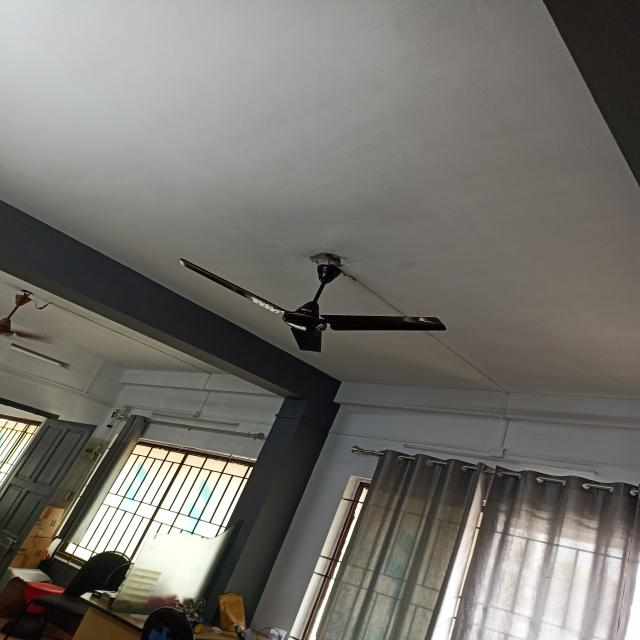fan: (178, 251, 447, 352), (0, 289, 52, 343)
